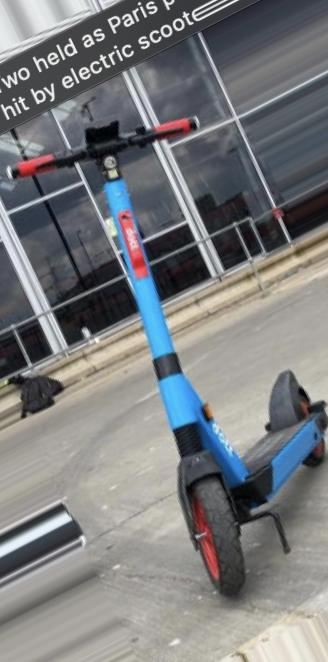scooter: (6, 119, 328, 597)
